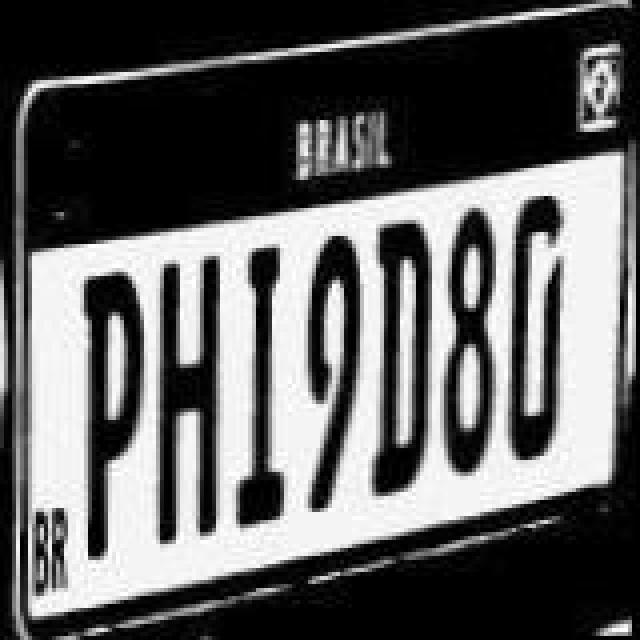8: (434, 204, 510, 496)
9: (294, 226, 370, 526)
D: (362, 216, 438, 508), (500, 190, 572, 474)
H: (148, 244, 232, 552)
I: (232, 236, 308, 532)
P: (76, 262, 152, 562)
